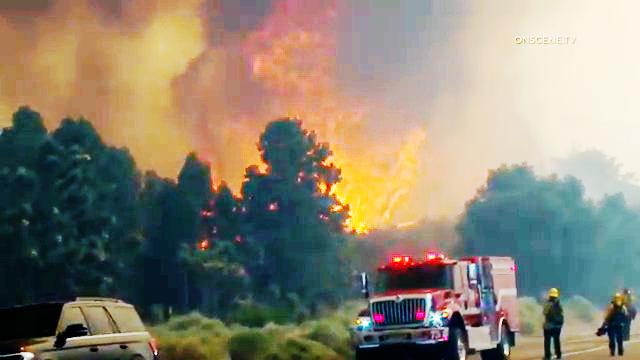fire: (310, 123, 424, 228)
